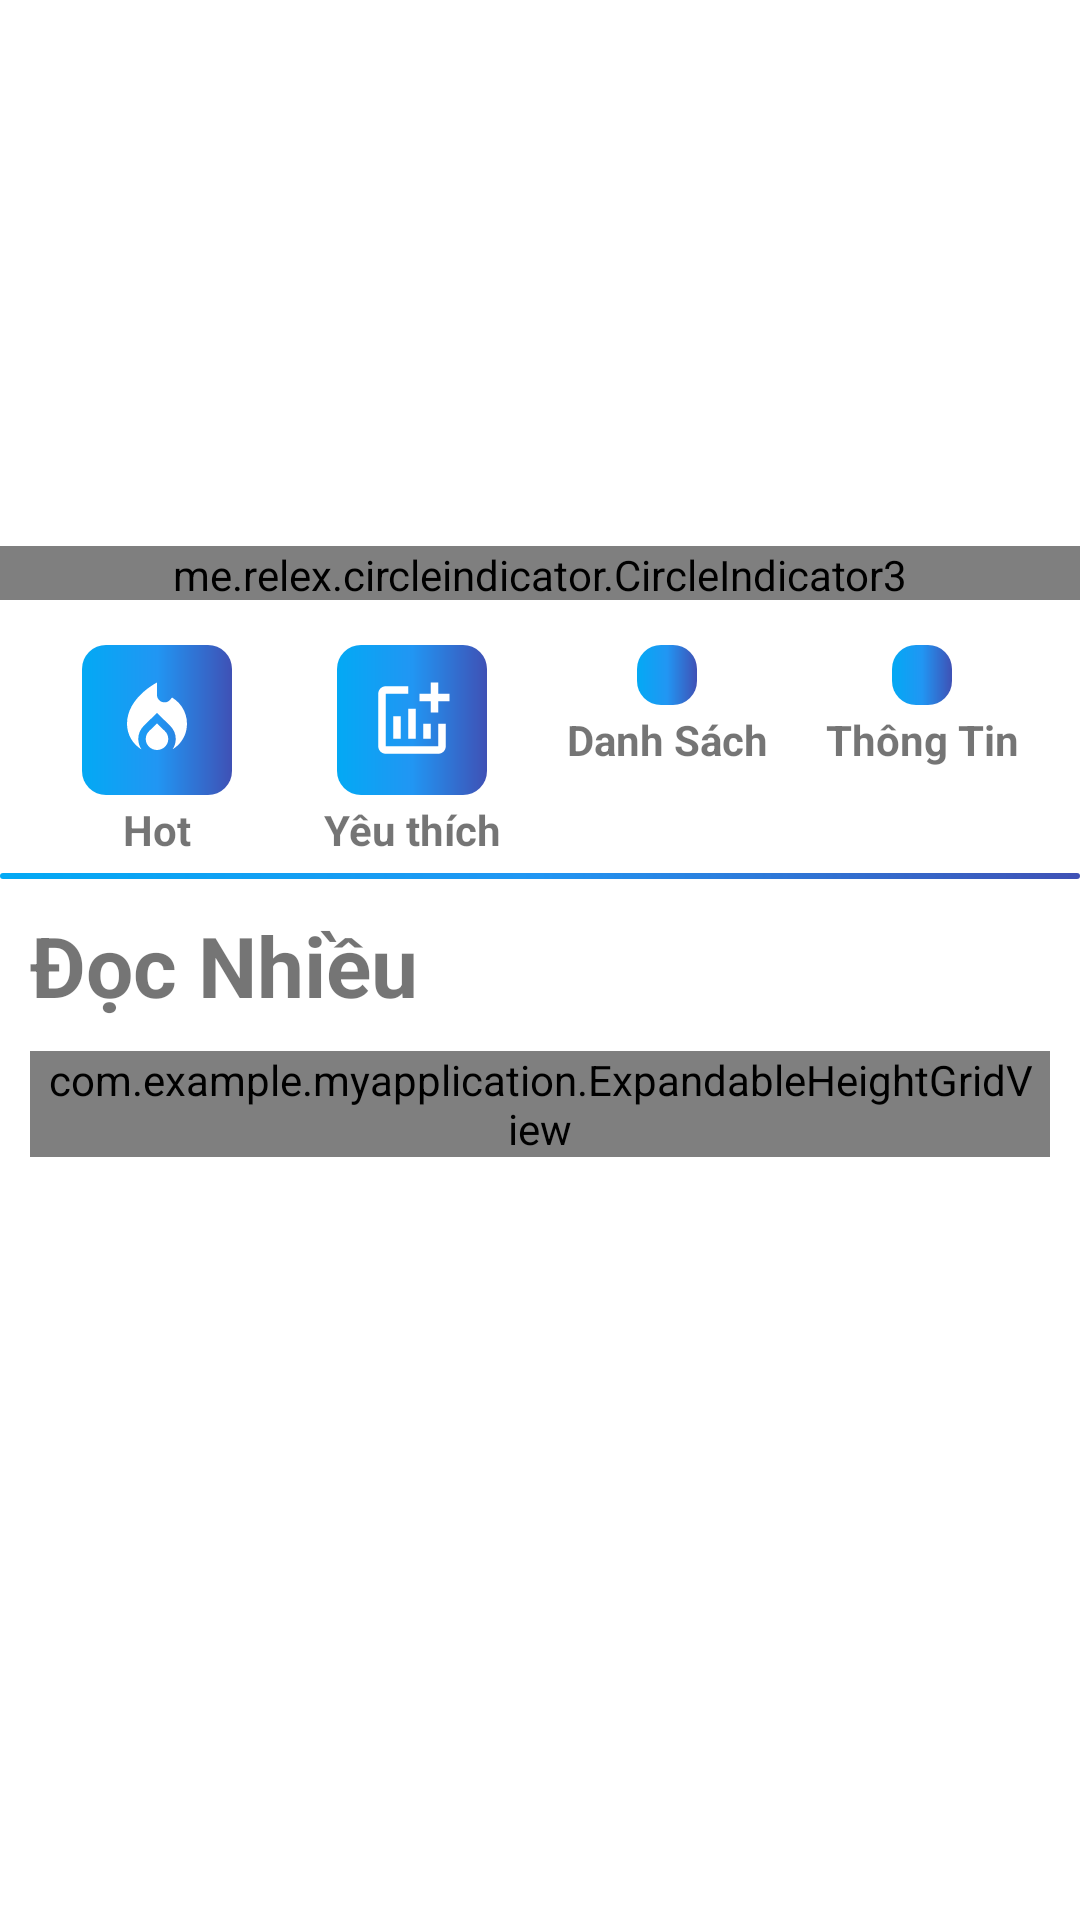

Screen size 1080px×1920px. Icon name, then its center in pixels as (x,y):
addchart 24s: (412,720)
fire 24s: (157,720)
